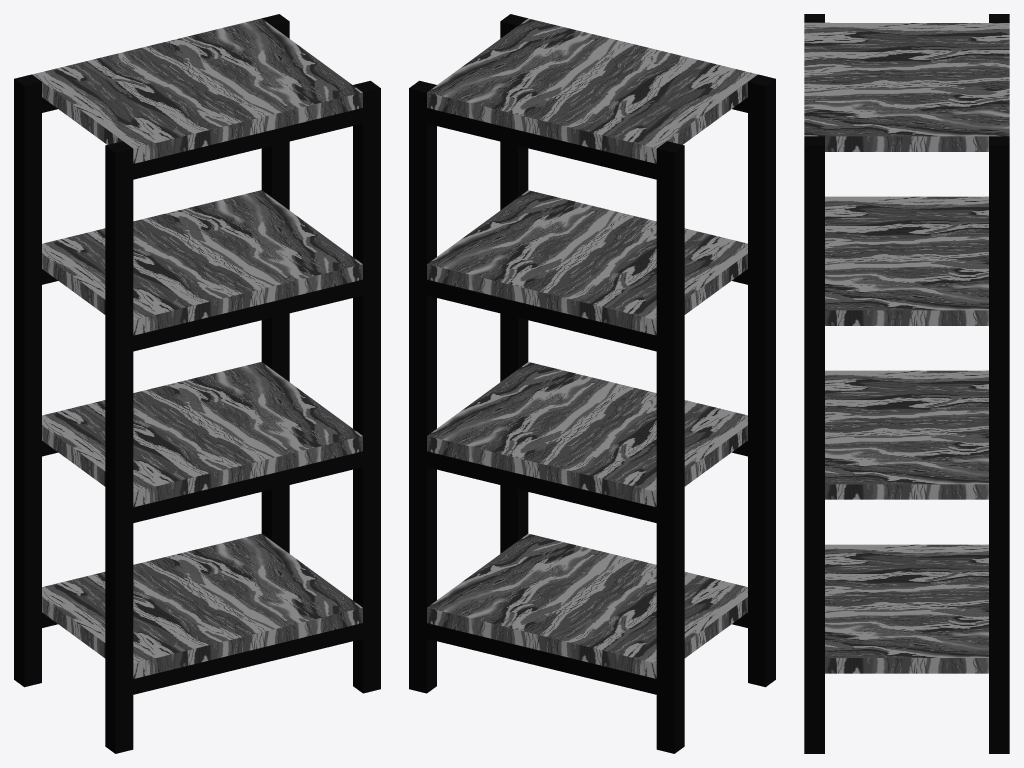
The model's file is librero.glb.
3 views of the same model, side by side, from view 1: azimuth 30°, elevation 25°; view 2: azimuth 150°, elevation 25°; view 3: azimuth 270°, elevation 25° (orthographic).
Visible parts, largest first — view 1: Cube.006; view 2: Cube.006; view 3: Cube.006.
Boxes of the visible parts, x1=… form: Cube.006: x1=14, y1=14, x2=380, y2=753; Cube.006: x1=409, y1=14, x2=775, y2=753; Cube.006: x1=804, y1=14, x2=1009, y2=753.
Size of the model in its own units: 1.18 by 2.55 by 0.7794.
Materials: 2 (1 with a texture image).
